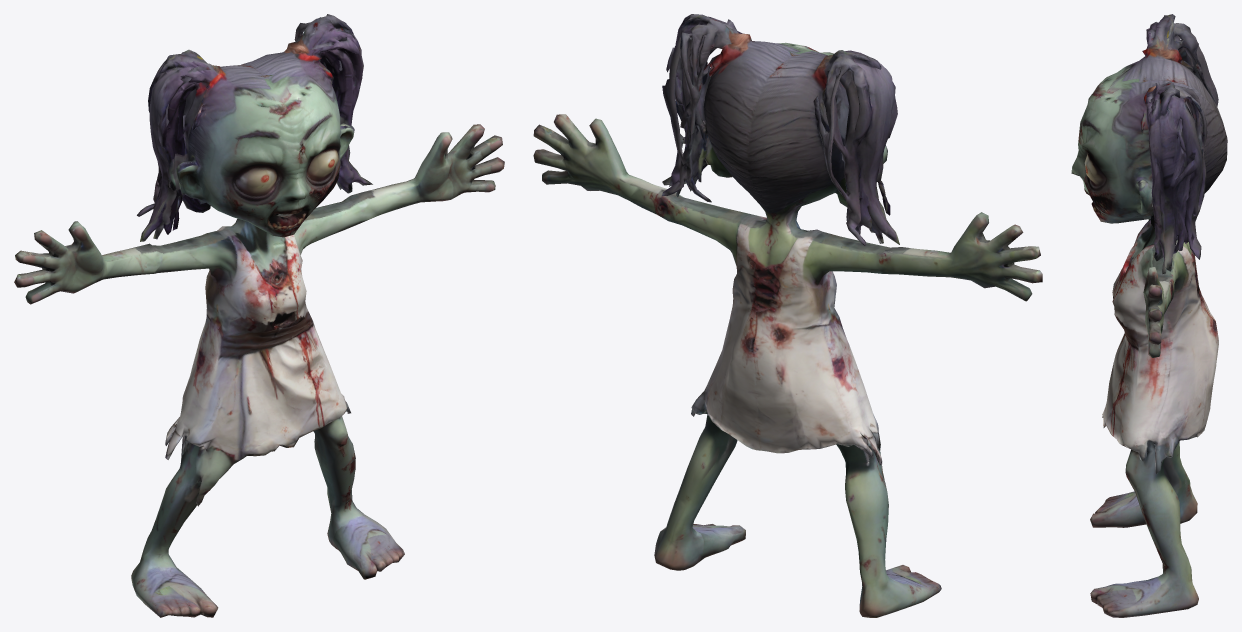
Rendered from girlzombie.glb.
The picture shows the model from 3 angles, left to right: view 1: azimuth 30°, elevation 25°; view 2: azimuth 150°, elevation 25°; view 3: azimuth 270°, elevation 25°; orthographic projection. The views are drawn at different scales.
Size of the model in its own units: 1.91 by 2 by 0.5505.
Materials: 1 (1 with a texture image).
